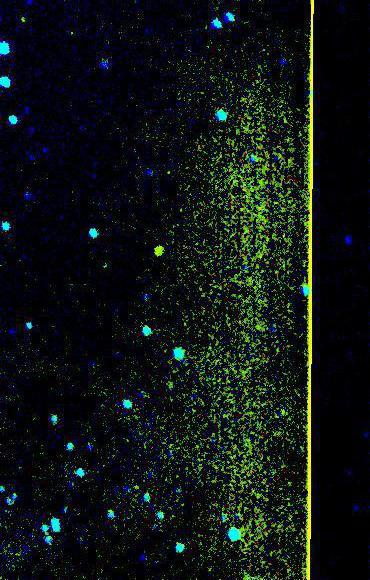star: (6, 9, 36, 39)
